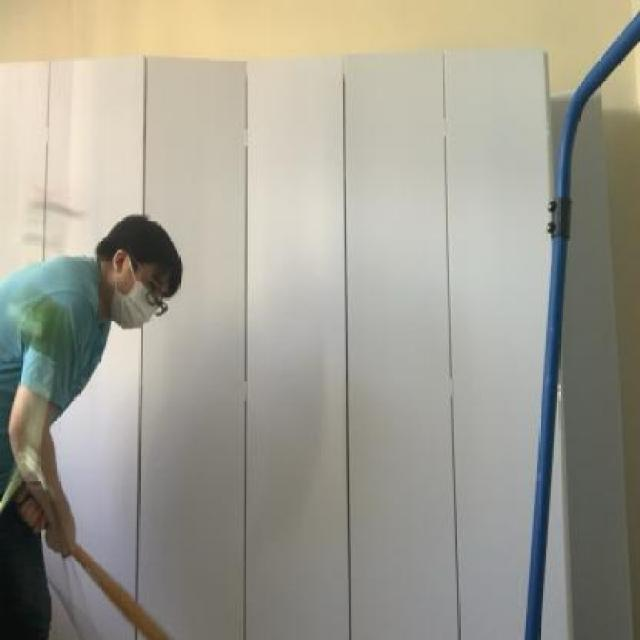baseball: (0, 274, 88, 366)
